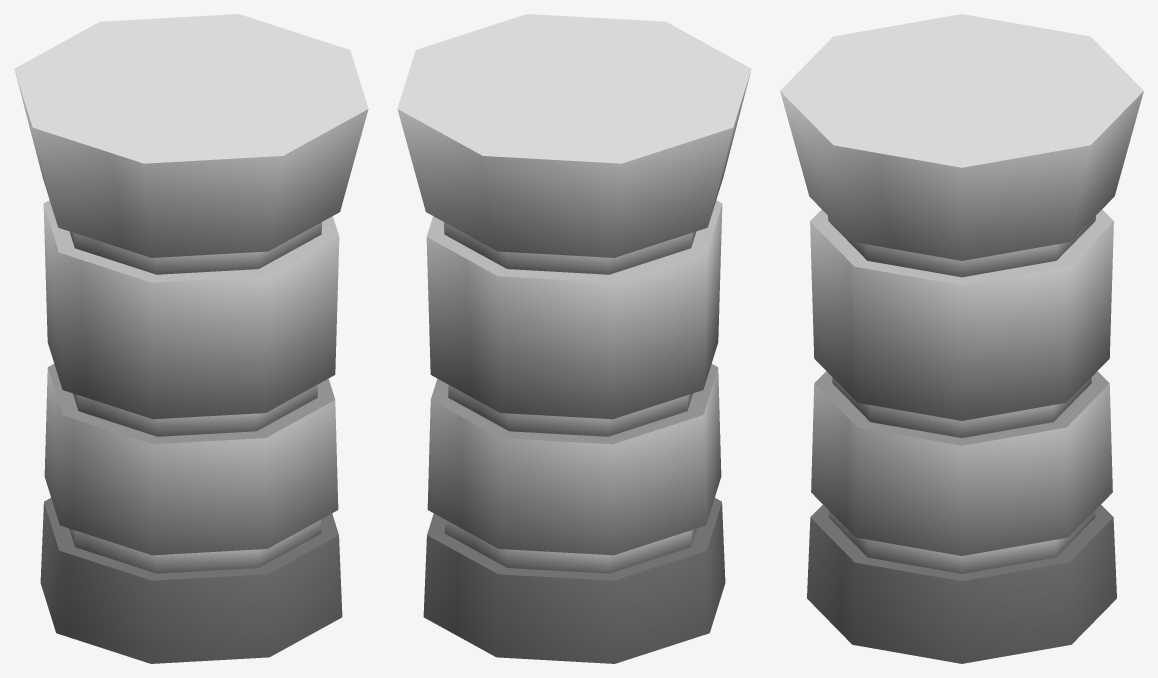
Rendered from stone_grip_066.glb.
3 views of the same model, side by side, from view 1: azimuth 30°, elevation 25°; view 2: azimuth 150°, elevation 25°; view 3: azimuth 270°, elevation 25° (orthographic).
Parts seen in each view (by area): view 1: stone_grip.066; view 2: stone_grip.066; view 3: stone_grip.066.
Boxes of the visible parts, bbox=[...] form: stone_grip.066: bbox=[14, 14, 368, 663]; stone_grip.066: bbox=[397, 14, 751, 663]; stone_grip.066: bbox=[780, 14, 1143, 663].
Size of the model in its own units: 2.2 by 3.38 by 2.2.
1 material, 1 textured.
